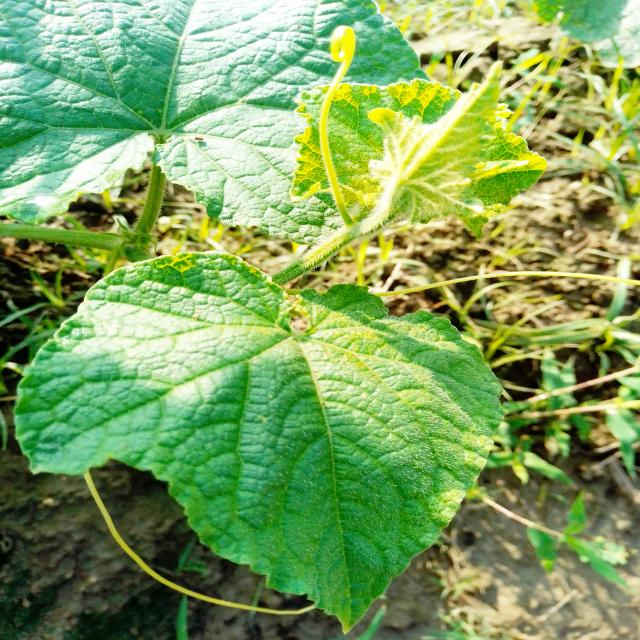Fresh-Leaf: (4, 250, 509, 640), (0, 0, 432, 241)
